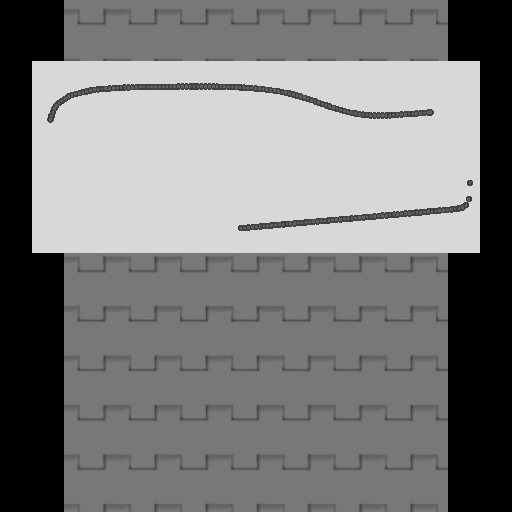Defect: (44, 116, 241, 237)
